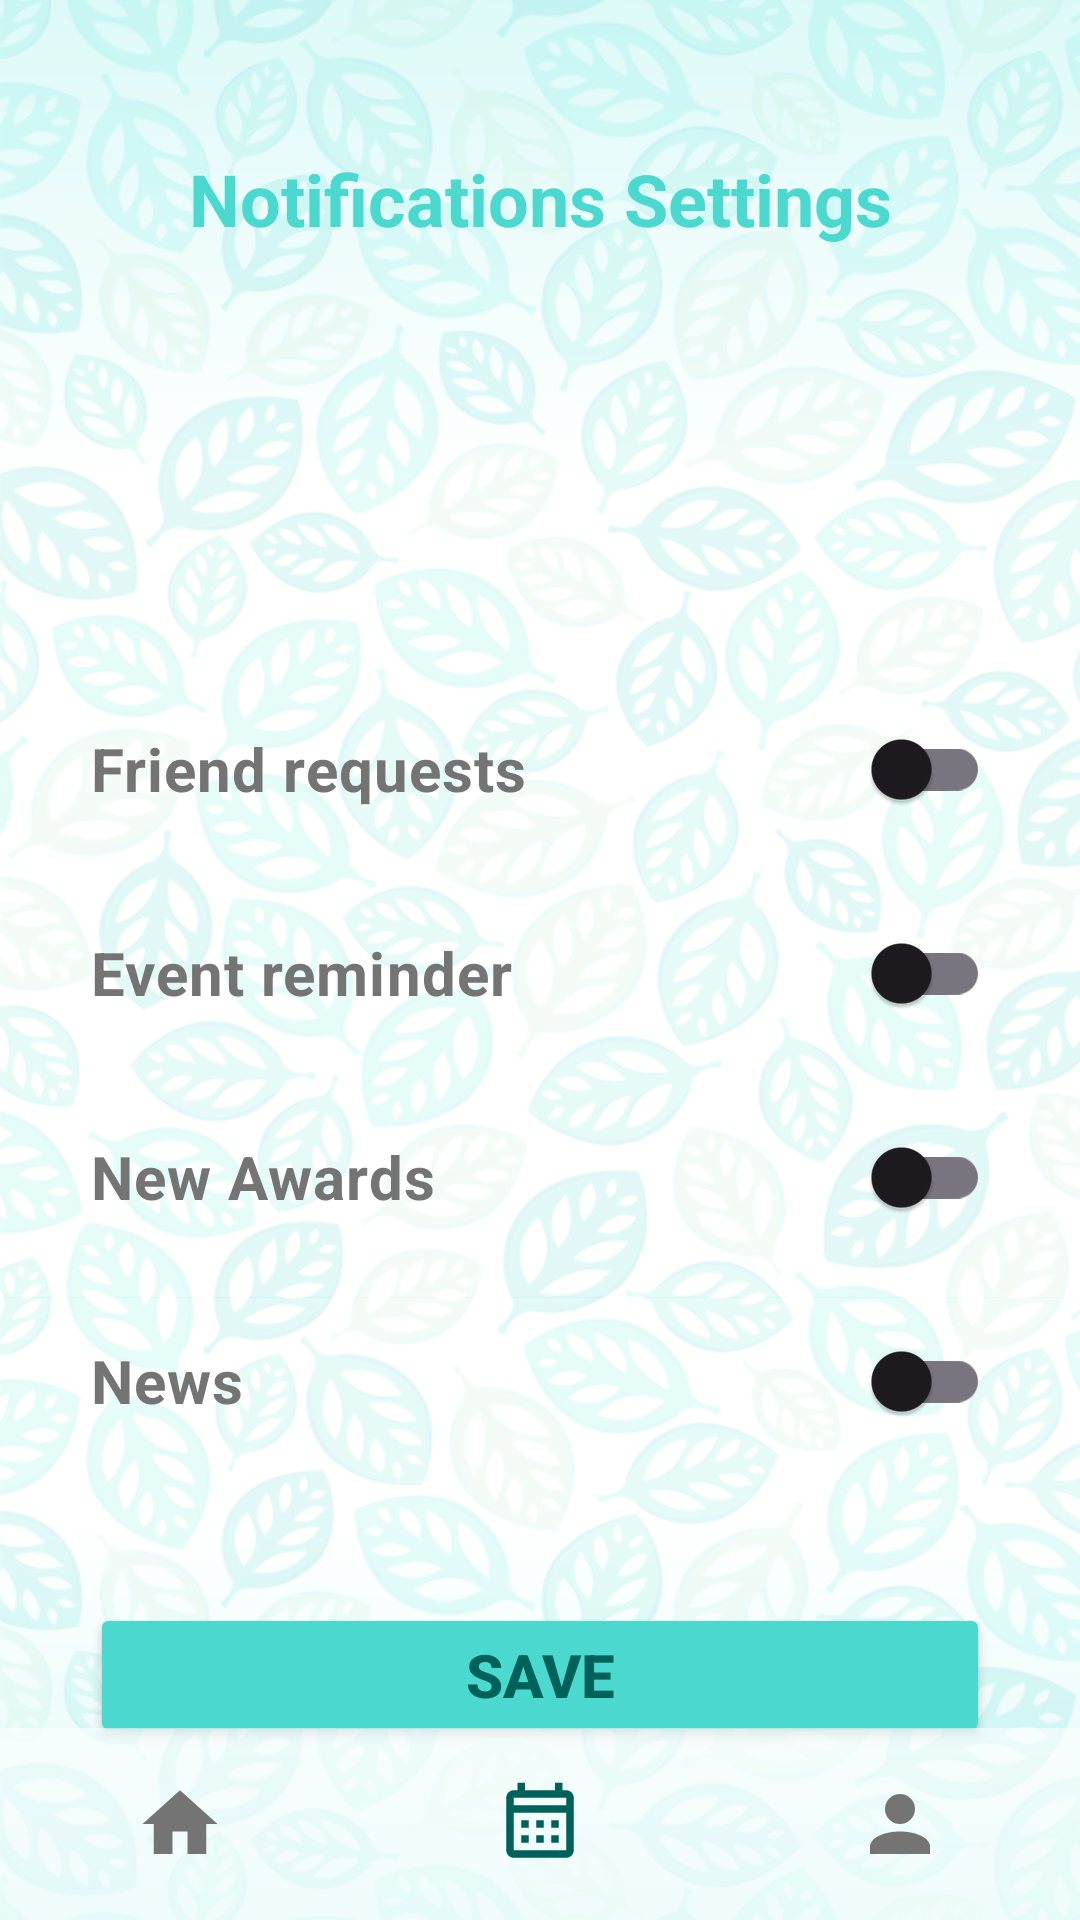

Screen size 1080px×1920px. Icon name, then its box in pixels as (x1, y1, x2, y2):
account: (870, 1794, 930, 1854)
calendar month: (506, 1782, 574, 1858)
home: (143, 1790, 217, 1854)
